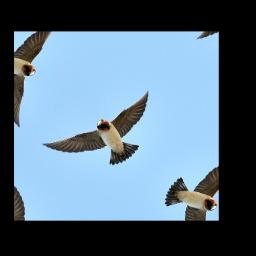Swallow: (40, 65, 175, 189)
